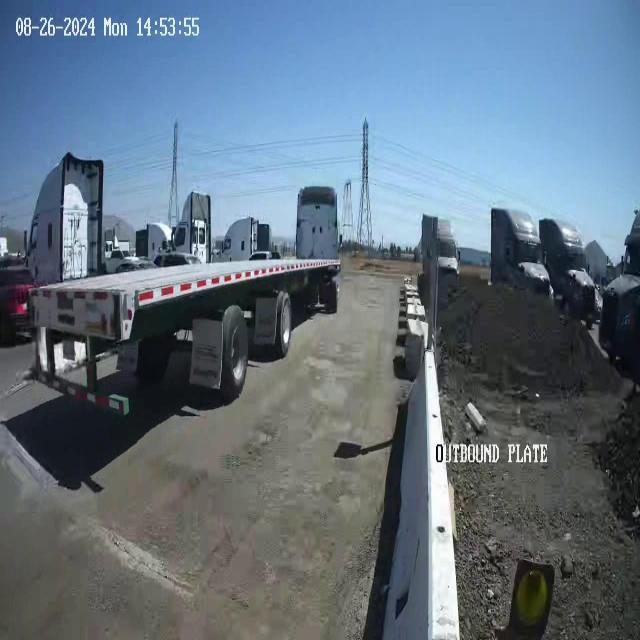TRUCK_IN: (23, 150, 341, 414)
